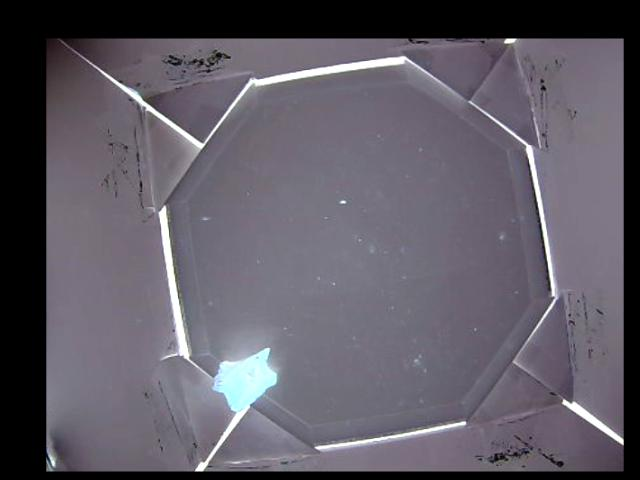Brisk: (213, 346, 278, 414)
